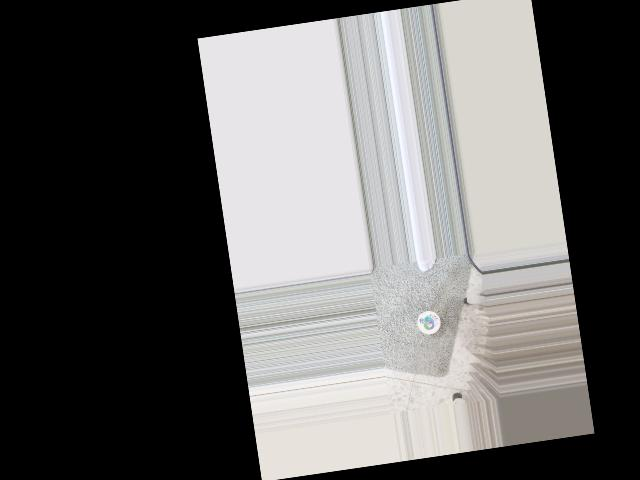cotage: (415, 310, 442, 336)
